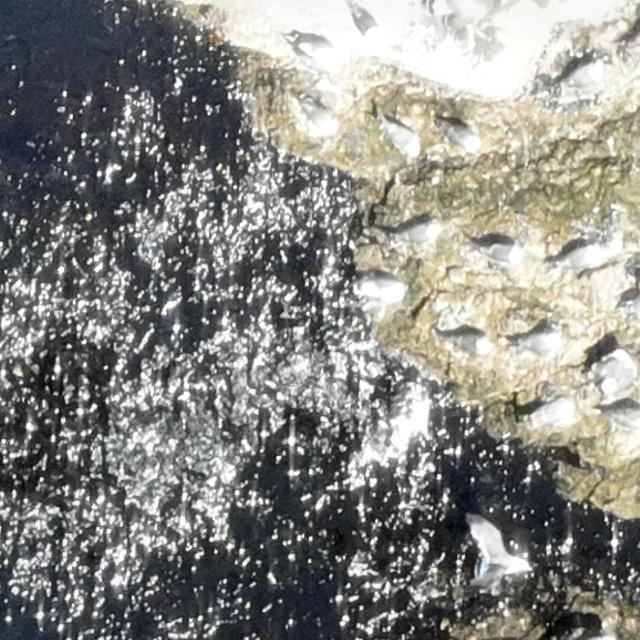F: (472, 523, 522, 583)
umineko: (592, 351, 636, 405), (380, 117, 421, 159), (562, 60, 612, 91), (529, 395, 570, 430), (294, 34, 335, 68), (353, 7, 385, 48), (397, 220, 442, 246), (566, 245, 612, 270), (300, 100, 332, 135), (445, 121, 481, 151), (364, 282, 405, 306), (521, 331, 561, 355), (452, 333, 491, 351), (486, 242, 518, 260)
